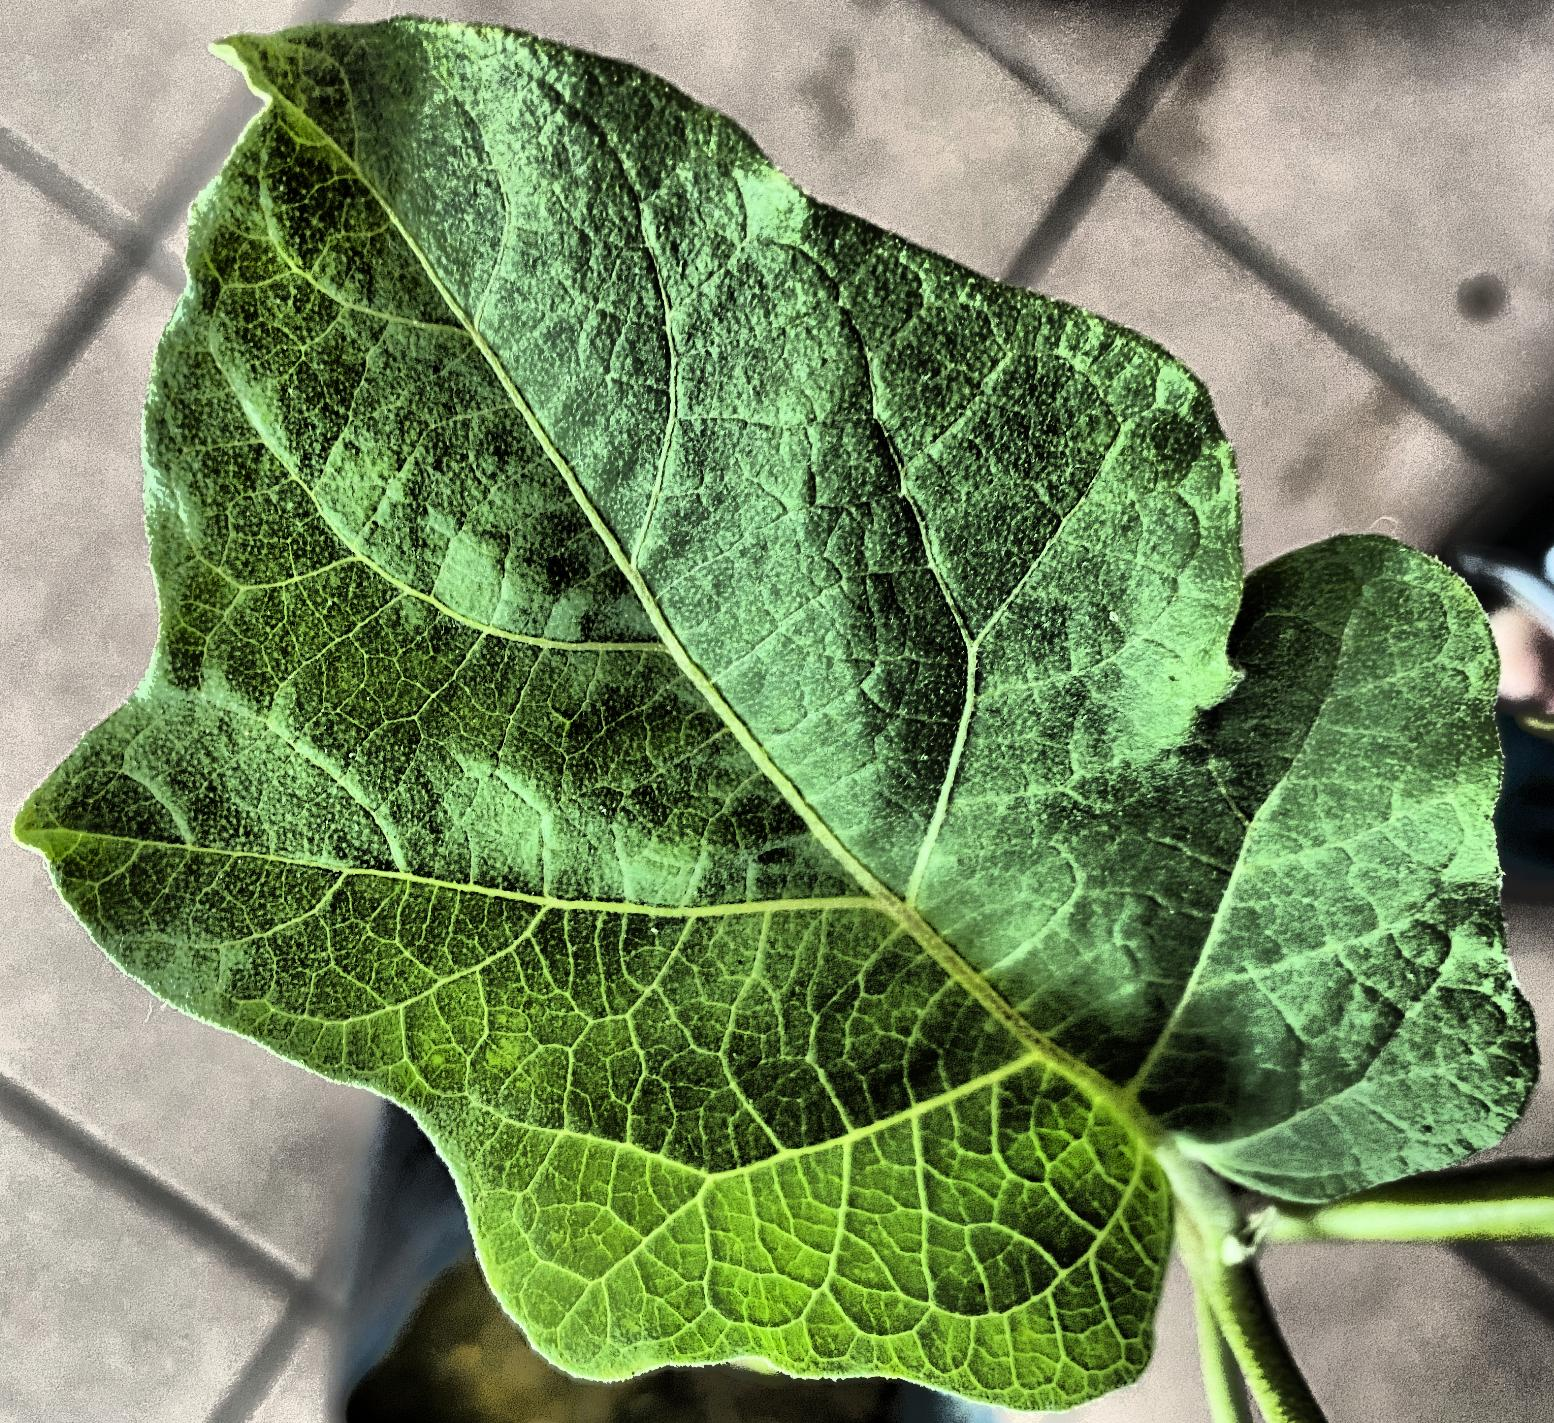HEALTHY: (0, 1, 1554, 1423)
